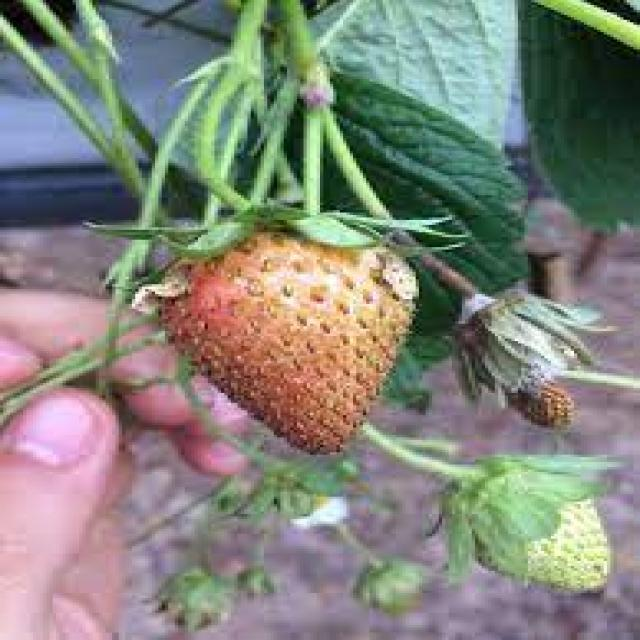Podredumbre de cuero: (142, 219, 426, 461)
